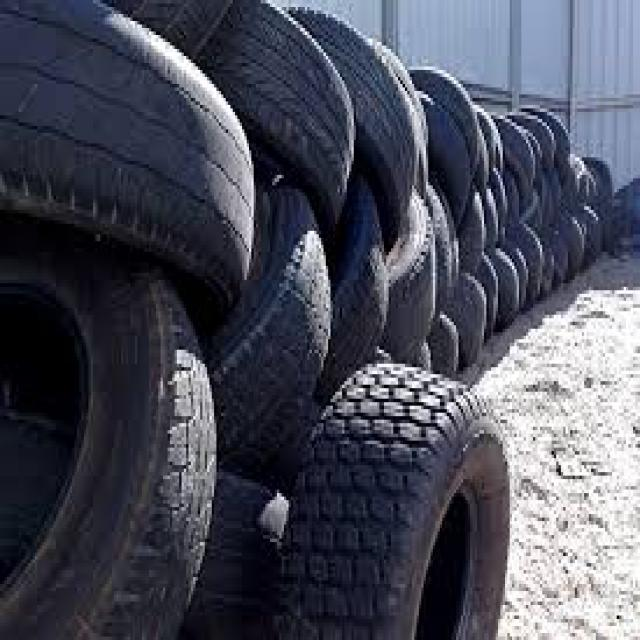Rubber -Non-Biodegradable but Recyclable-: (0, 0, 614, 640)
